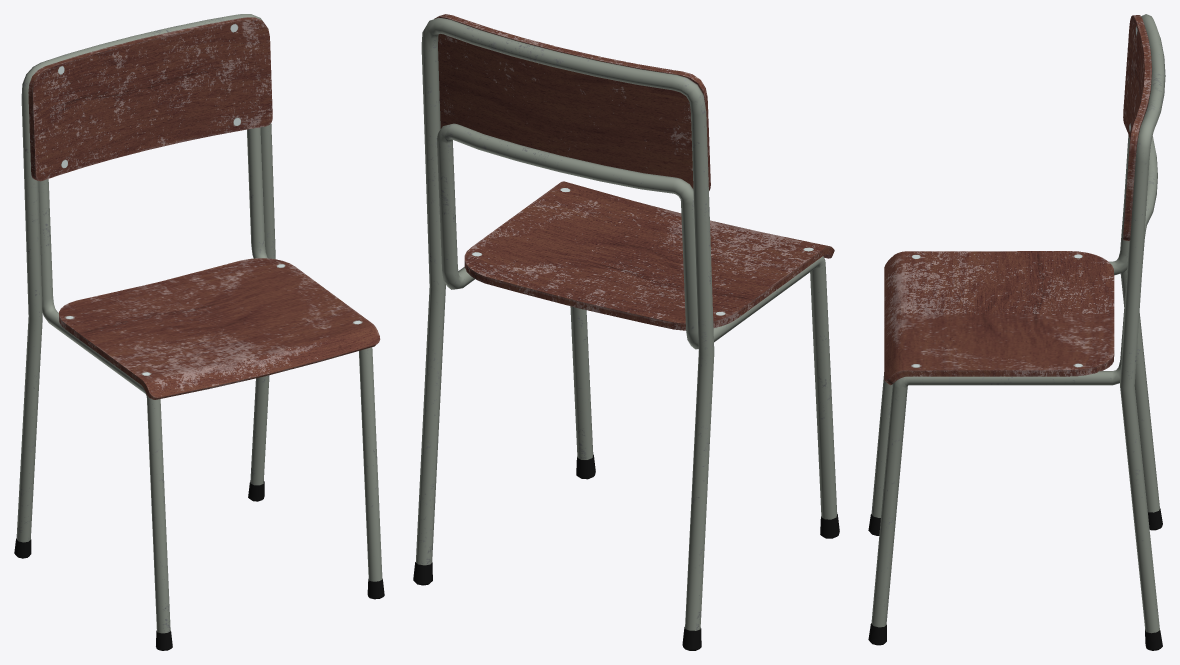
File: School_Chair.gltf
3 views of the same model, side by side, from view 1: azimuth 30°, elevation 25°; view 2: azimuth 150°, elevation 25°; view 3: azimuth 270°, elevation 25° (orthographic). The views are drawn at different scales.
Visible parts, largest first — view 1: School_Chair; view 2: School_Chair; view 3: School_Chair.
Part boxes in pixels (x1,y1,x2,y2): School_Chair: (14,14,384,650); School_Chair: (413,14,839,650); School_Chair: (868,14,1165,650).
Bounding box in the file's own units: 0.4216 × 0.7989 × 0.4137.
Materials: 1 (1 with a texture image).
